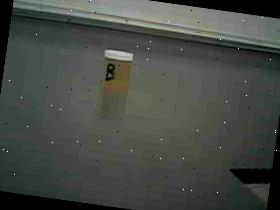Bottle B: (85, 41, 145, 113)
